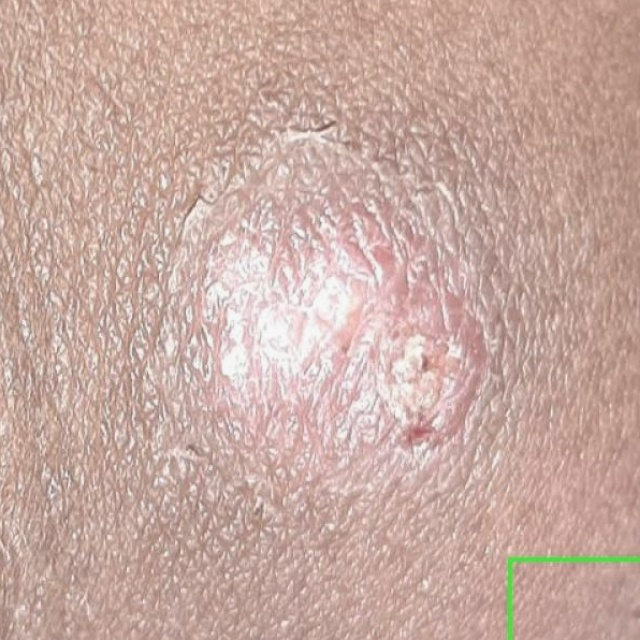Contact Dermatitis: (508, 559, 639, 639)
